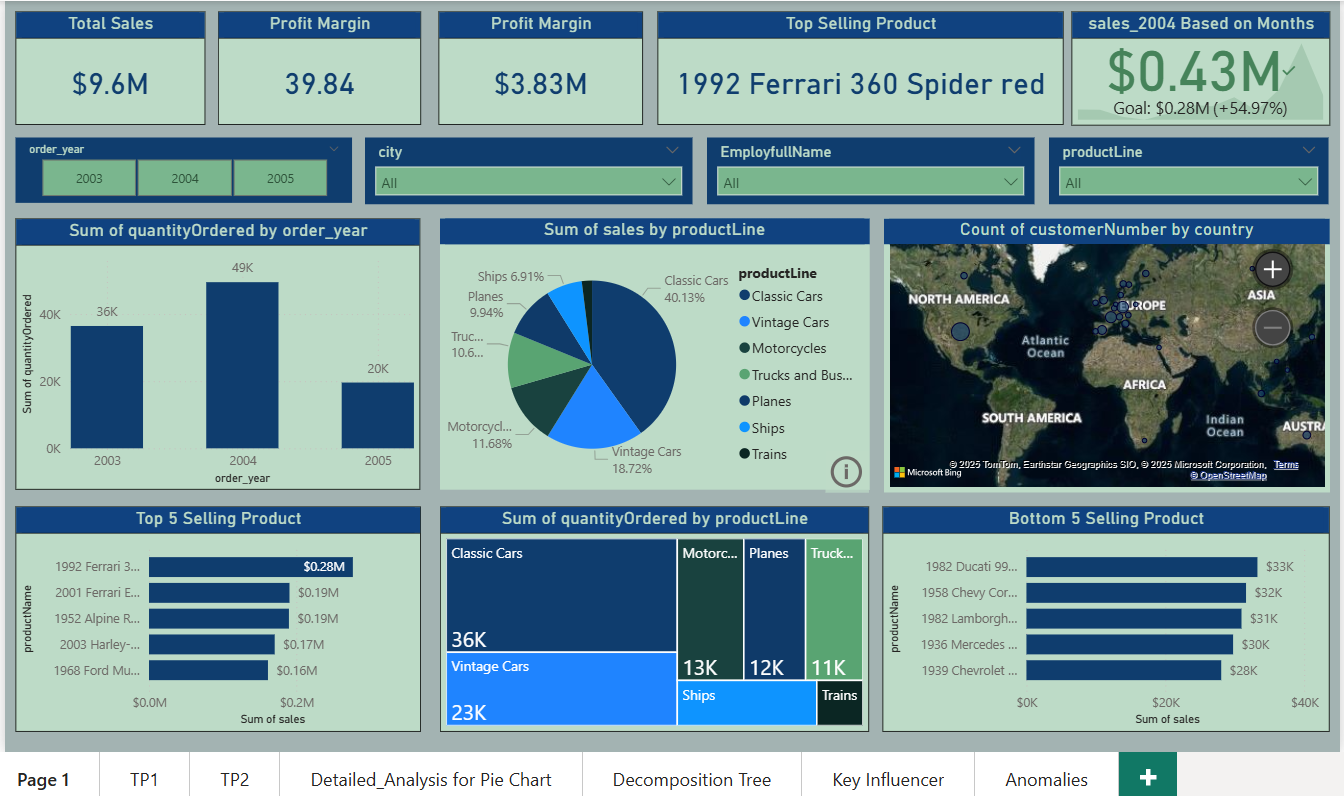

The dashboard page shown, as its layout file describes it:
{"tool":"powerbi","page":{"name":"Page 1","canvas":[1280,720],"ordinal":0},"visuals":[{"type":"pieChart","fields":{"Category":["product Lines.productLine"],"Y":["order details.sales"]},"box":[417.1,209.2,411.9,260.2],"z":0},{"type":"card","title":"Profit Margin","fields":{"Values":["order details.Profit"]},"box":[415.8,10.5,196.1,108.5],"z":1000},{"type":"card","title":"Total Sales","fields":{"Values":["order_details.sales"]},"box":[10.5,10.5,181.7,108.5],"z":2000},{"type":"kpi","title":"sales_2004 Based on Months","fields":{"Goal":["orders.sales_2003"],"TrendLine":["orders.Month Name"],"Indicator":["orders.sales_2004"]},"box":[1022,10.2,247.8,109.3],"z":3000},{"type":"slicer","fields":{"Values":["orders.order_year"]},"box":[10.5,130.8,323,62.8],"z":4000},{"type":"clusteredBarChart","title":"Top 5 Selling Product","fields":{"Category":["products.productName"],"Y":["order details.sales"]},"box":[10,484.3,388.6,215.7],"z":5000},{"type":"map","fields":{"Size":["customer.customerNumber"],"Category":["customer.country"]},"box":[842,207.9,427.6,262.8],"z":6000},{"type":"treemap","fields":{"Group":["product Lines.productLine"],"Values":["order details.quantityOrdered"]},"box":[417.1,484.3,411.4,215.7],"z":7000},{"type":"card","title":"Profit Margin","fields":{"Values":["classic_models_dataset.total profit"]},"box":[204,10.5,194.8,108.5],"z":8000},{"type":"card","title":"Top Selling Product","fields":{"Values":["order_details.TopSellingProduct"]},"box":[625,10.5,389.6,108.5],"z":9000},{"type":"slicer","fields":{"Values":["offices.city"]},"box":[345.8,130.4,313.7,64.3],"z":10000},{"type":"slicer","fields":{"Values":["employee.EmployfullName"]},"box":[672.8,130.4,313.7,64.3],"z":11000},{"type":"slicer","fields":{"Values":["product Lines.productLine"]},"box":[1001.6,130.8,268,64.1],"z":12000},{"type":"clusteredBarChart","title":"Bottom 5 Selling Product","fields":{"Category":["products.productName"],"Y":["order details.sales"]},"box":[841.4,484.3,428.6,215.7],"z":13000},{"type":"actionButton","box":[786.7,431.7,41.7,40],"z":14000},{"type":"columnChart","fields":{"Y":["order_details.quantityOrdered"],"Category":["orders.order_year"]},"box":[10,209,388,260],"z":15000}]}

Visuals, with their boxes on the page's 1280x720 design canvas (x1, y1, x2, y2). These are canvas units, not pixel positions in the 1344x796 screenshot, which may show the page scaled, cropped or inside an application window:
pieChart - product Lines.productLine x order details.sales: [417, 209, 829, 469]
"Profit Margin" card: [416, 10, 612, 119]
"Total Sales" card: [10, 10, 192, 119]
"sales_2004 Based on Months" kpi: [1022, 10, 1270, 120]
slicer - orders.order_year: [10, 131, 334, 194]
"Top 5 Selling Product" clusteredBarChart: [10, 484, 399, 700]
map - customer.customerNumber x customer.country: [842, 208, 1270, 471]
treemap - product Lines.productLine x order details.quantityOrdered: [417, 484, 828, 700]
"Profit Margin" card: [204, 10, 399, 119]
"Top Selling Product" card: [625, 10, 1015, 119]
slicer - offices.city: [346, 130, 660, 195]
slicer - employee.EmployfullName: [673, 130, 986, 195]
slicer - product Lines.productLine: [1002, 131, 1270, 195]
"Bottom 5 Selling Product" clusteredBarChart: [841, 484, 1270, 700]
actionButton: [787, 432, 828, 472]
columnChart - order_details.quantityOrdered x orders.order_year: [10, 209, 398, 469]
